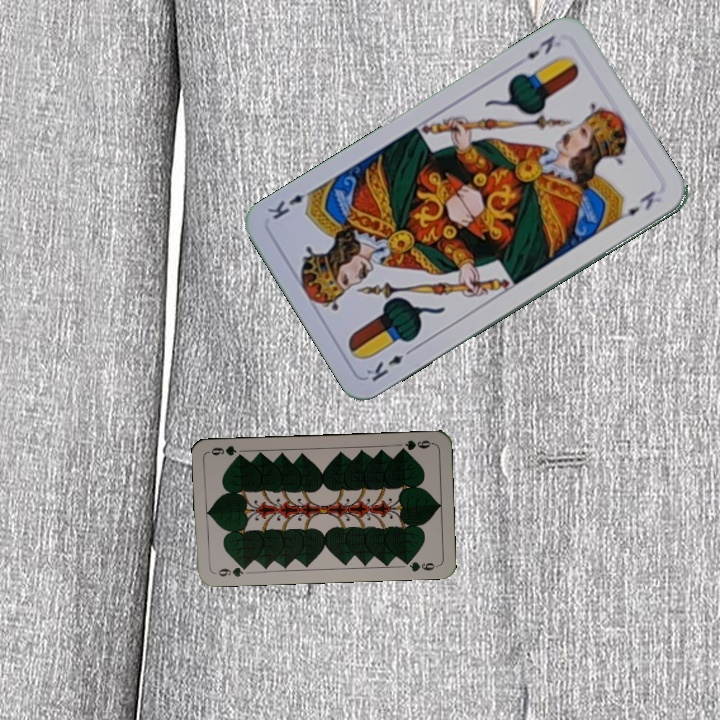EK: (362, 343, 417, 384), (522, 31, 558, 62)
G9: (395, 436, 435, 455), (211, 561, 251, 579)
